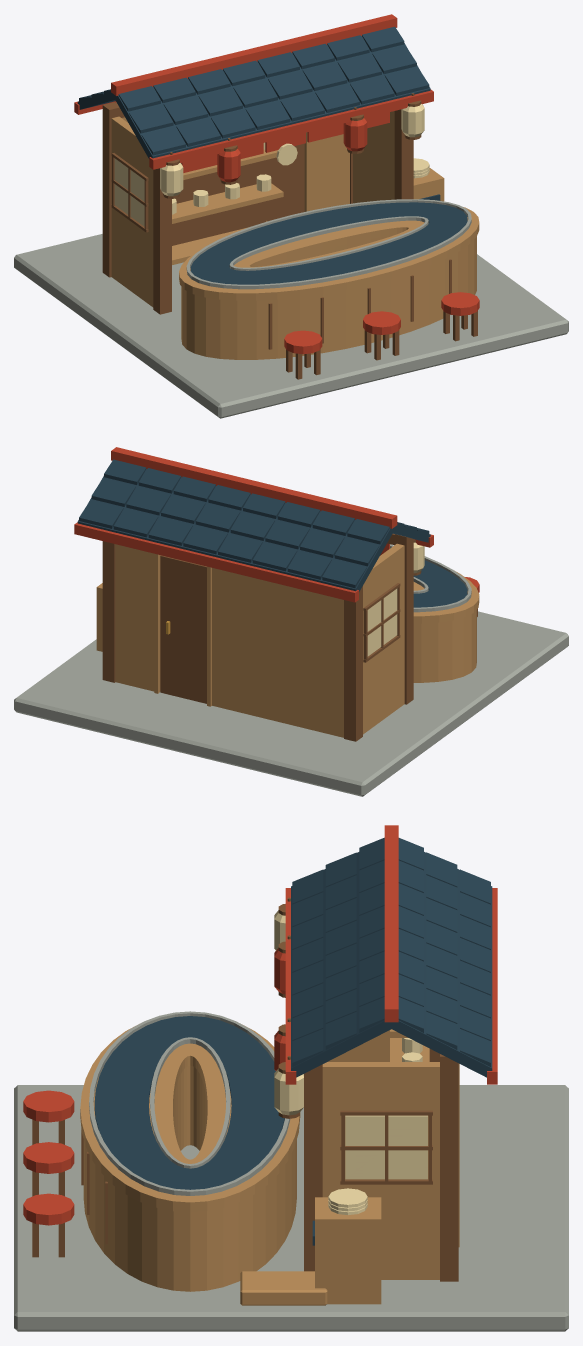
Rendered from conveyor-lv2.glb.
The picture shows the model from 3 angles, top to bottom: view 1: azimuth 30°, elevation 25°; view 2: azimuth 150°, elevation 25°; view 3: azimuth 270°, elevation 25°; orthographic projection. The views are drawn at different scales.
Visible parts, largest first — view 1: Conveyor_L2; view 2: Conveyor_L2; view 3: Conveyor_L2.
Part boxes in pixels (bbox=[...]): Conveyor_L2: bbox=[14, 14, 568, 418]; Conveyor_L2: bbox=[14, 447, 568, 796]; Conveyor_L2: bbox=[14, 825, 568, 1331].
Bounding box in the file's own units: 5 × 3.05 × 5.1.
